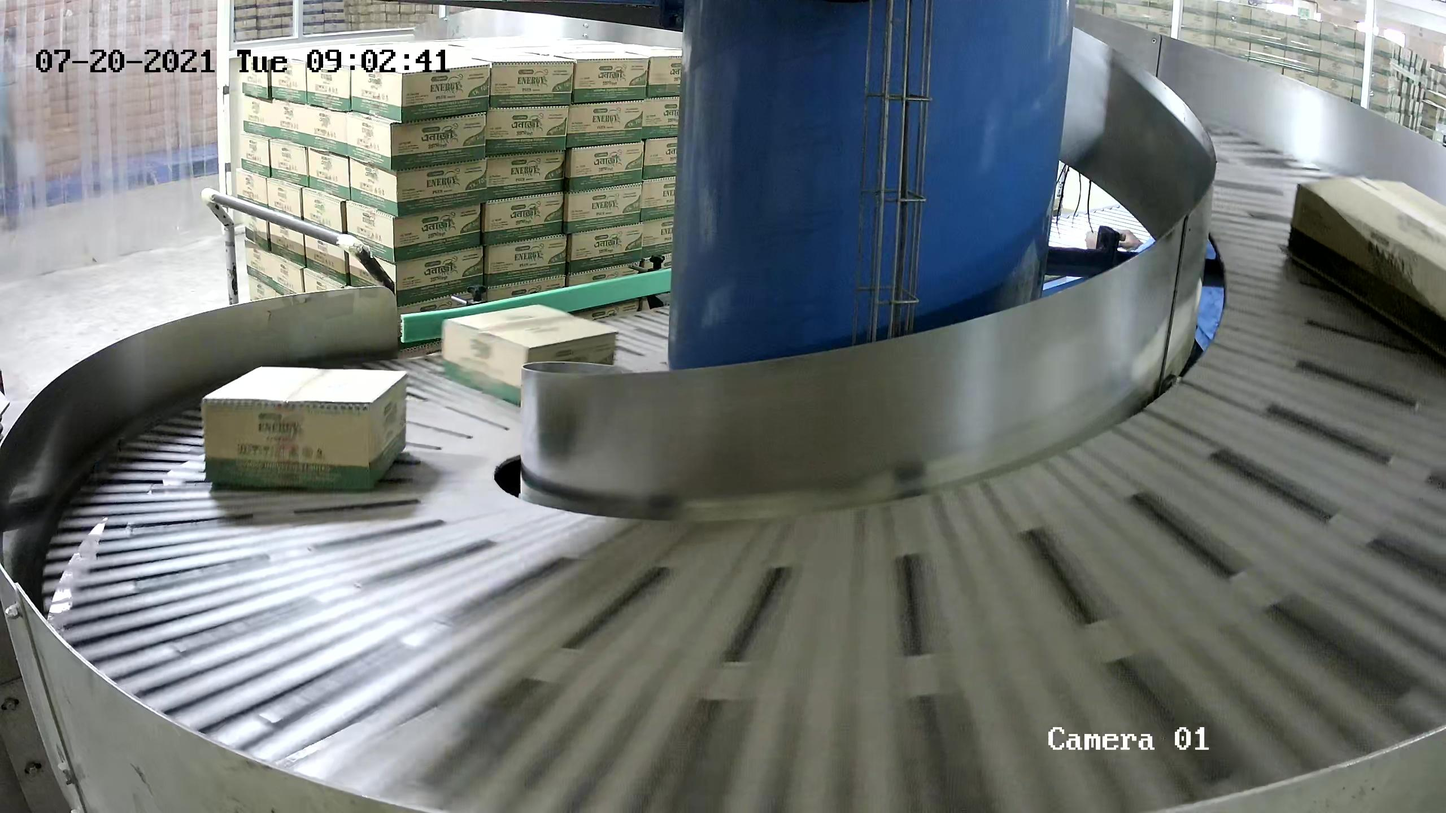Box: (1285, 176, 1446, 359), (201, 365, 409, 491), (440, 304, 620, 408)
